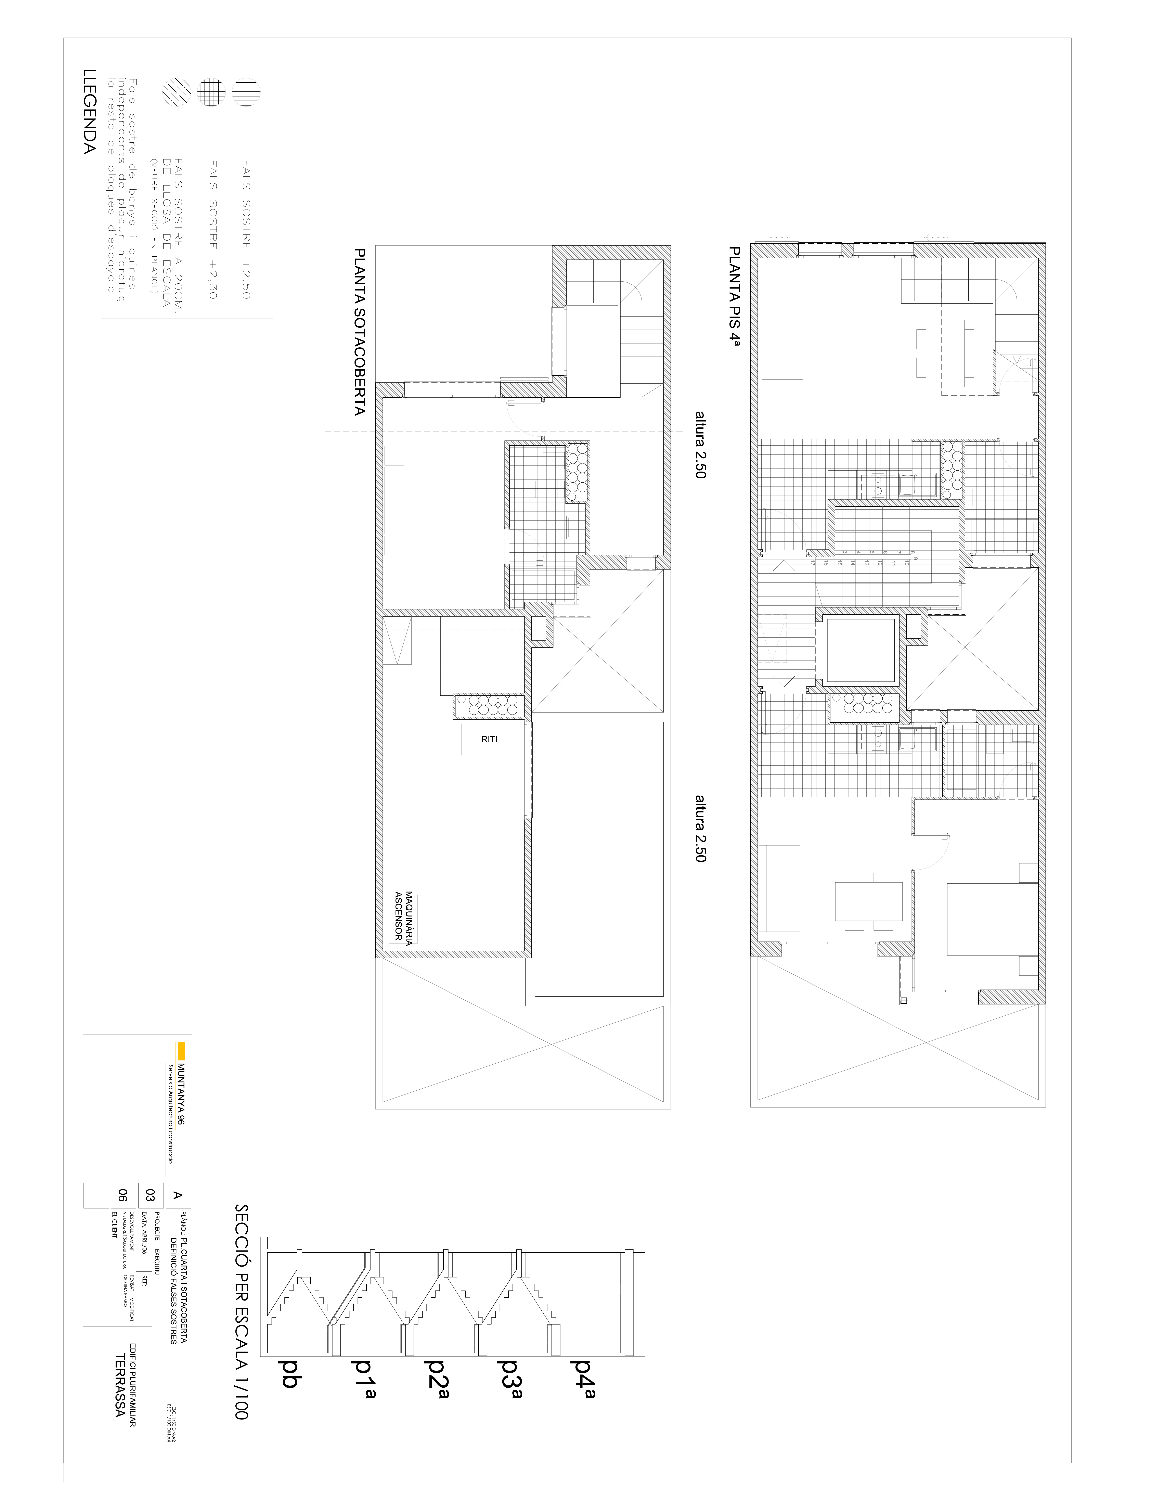door: (910, 833, 950, 875)
